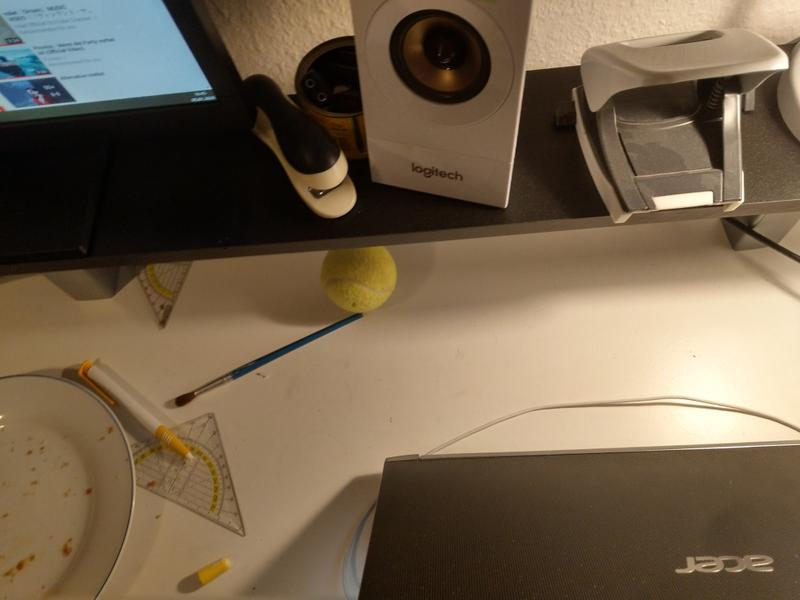Tennisball: (318, 245, 399, 315)
